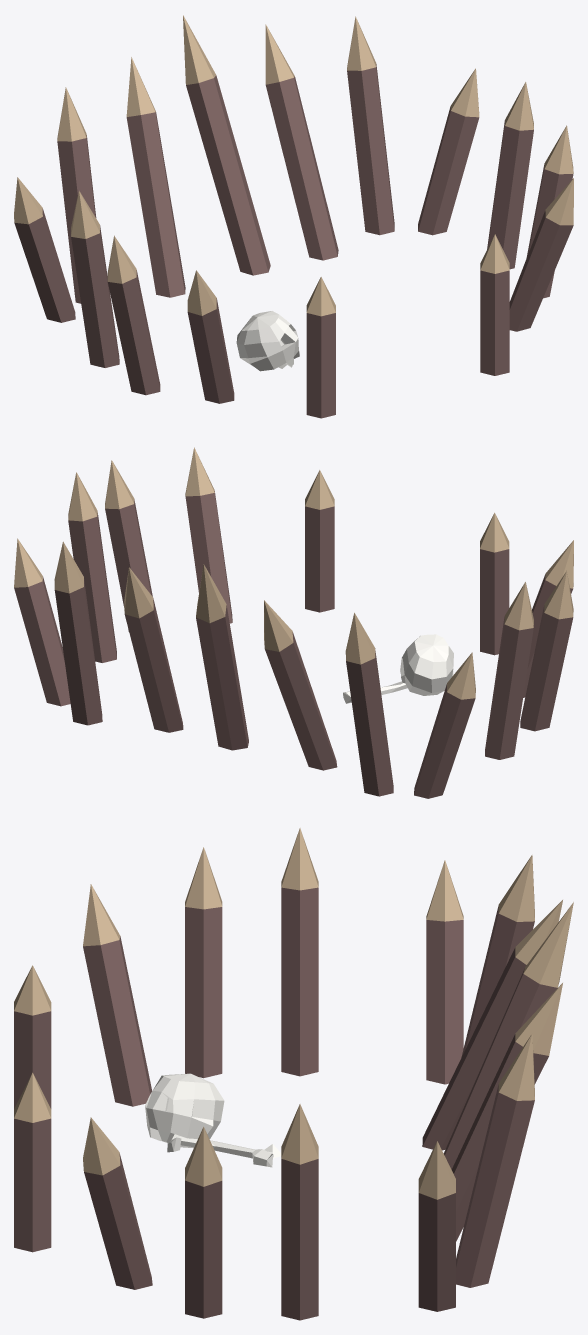
Rendered from Traps.fbx.
3 views of the same model, one above another, from view 1: azimuth 30°, elevation 25°; view 2: azimuth 150°, elevation 25°; view 3: azimuth 270°, elevation 25° (orthographic). The views are drawn at different scales.
Visible parts, largest first — view 1: pCone19, Skull1; view 2: pCone19, Skull1; view 3: pCone19, Skull1, Bone3.
Boxes of the visible parts, x1=… form: pCone19: x1=14, y1=15, x2=573, y2=418; Skull1: x1=236, y1=311, x2=299, y2=371; pCone19: x1=14, y1=447, x2=573, y2=798; Skull1: x1=400, y1=634, x2=453, y2=695; pCone19: x1=14, y1=828, x2=573, y2=1320; Skull1: x1=145, y1=1073, x2=224, y2=1143; Bone3: x1=167, y1=1134, x2=281, y2=1167.
Size of the model in its own units: 119 by 54.44 by 97.61.
